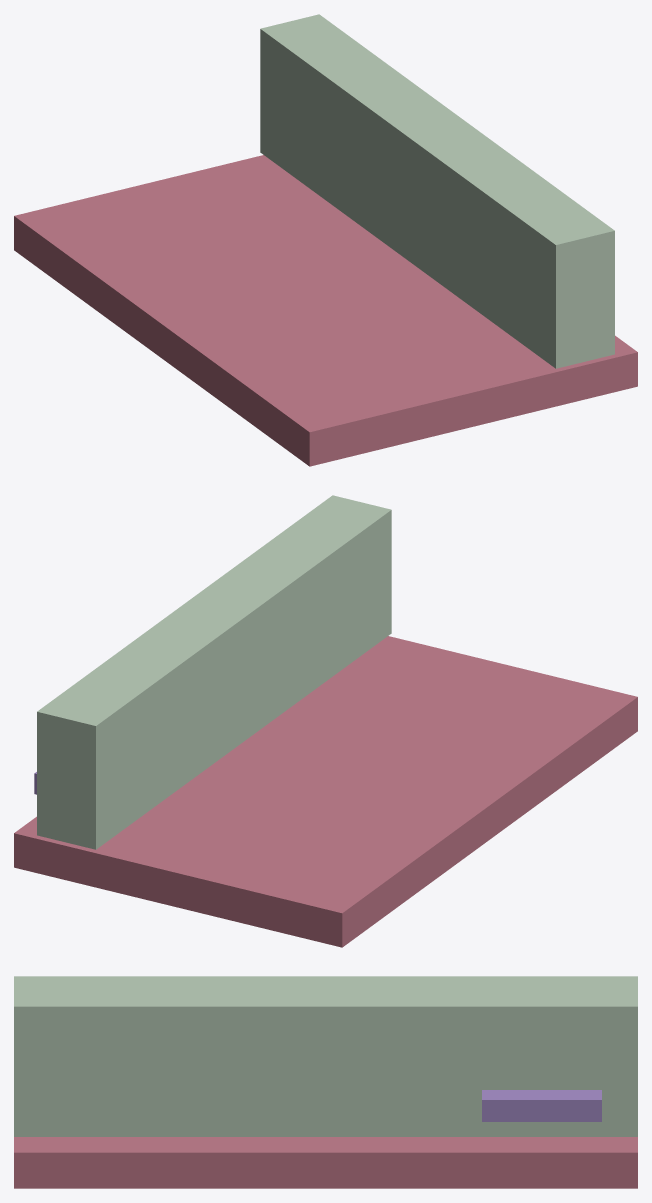
The picture shows the model from 3 angles, top to bottom: view 1: azimuth 30°, elevation 25°; view 2: azimuth 150°, elevation 25°; view 3: azimuth 270°, elevation 25°; orthographic projection. The views are drawn at different scales.
Visible parts, largest first — view 1: world; view 2: world; view 3: world.
Part boxes in pixels (x1,y1,x2,y2): world: (14,14,637,466); world: (14,495,637,947); world: (14,976,637,1188).
Size of the model in its own units: 5 by 2.35 by 7.8.
